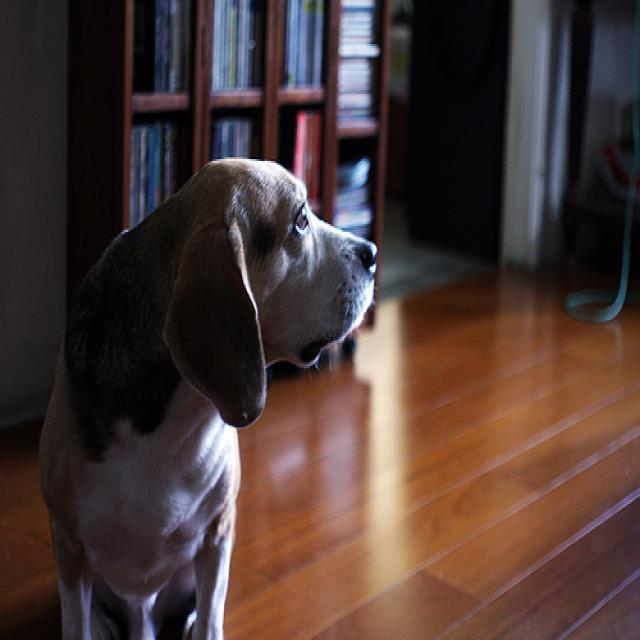dog-beagle: (31, 140, 381, 636)
